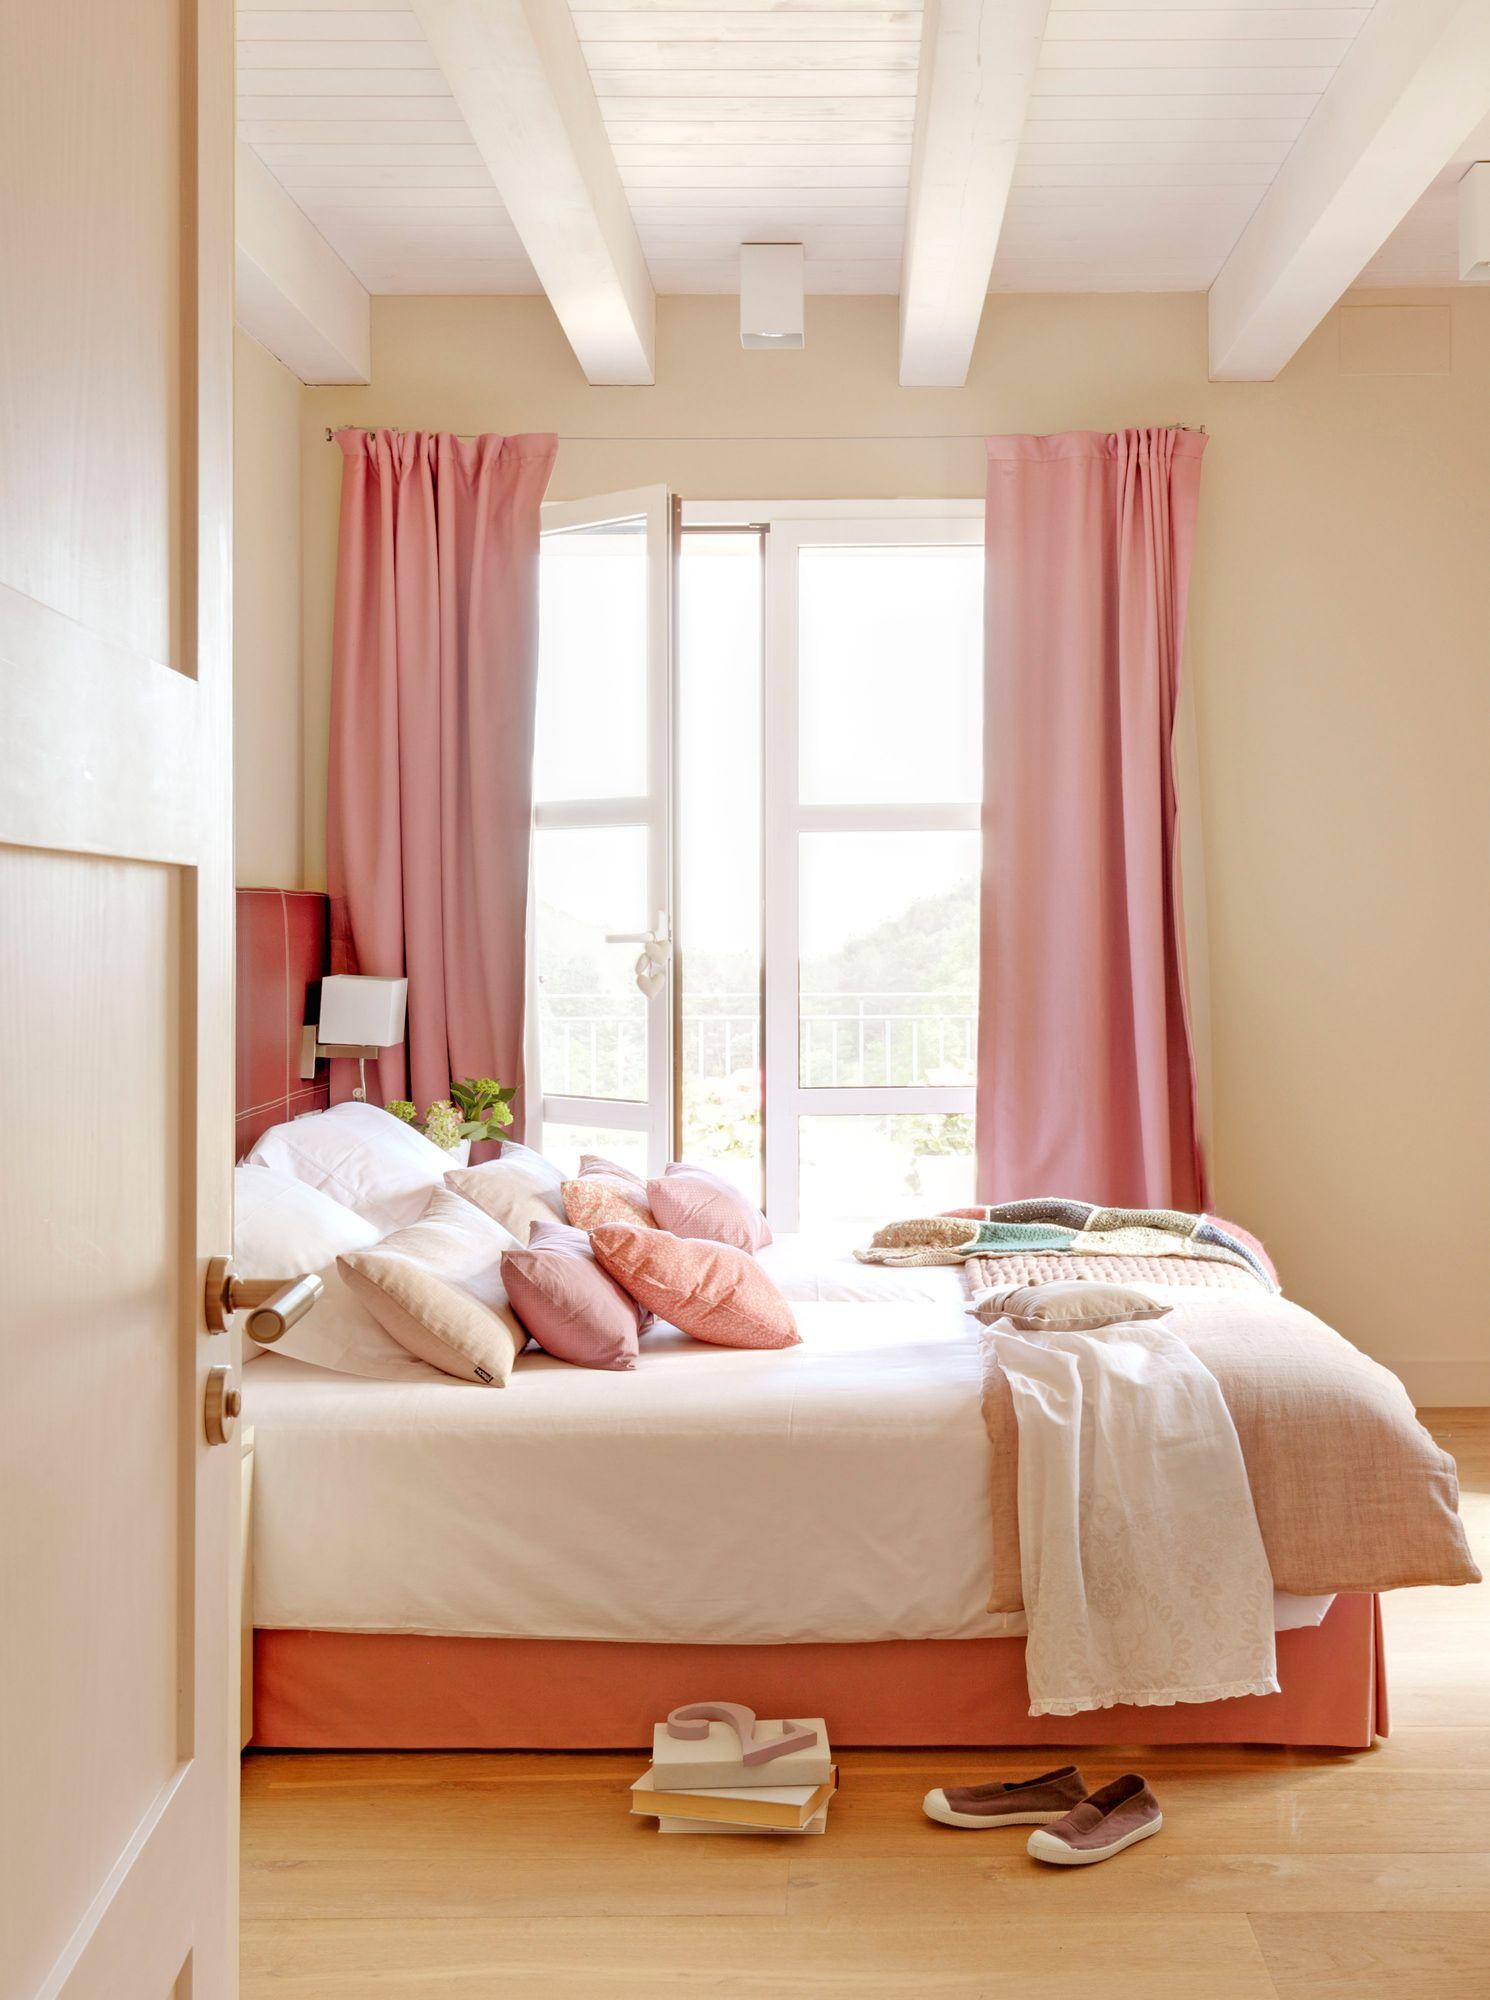bed: (135, 984, 1481, 1720)
